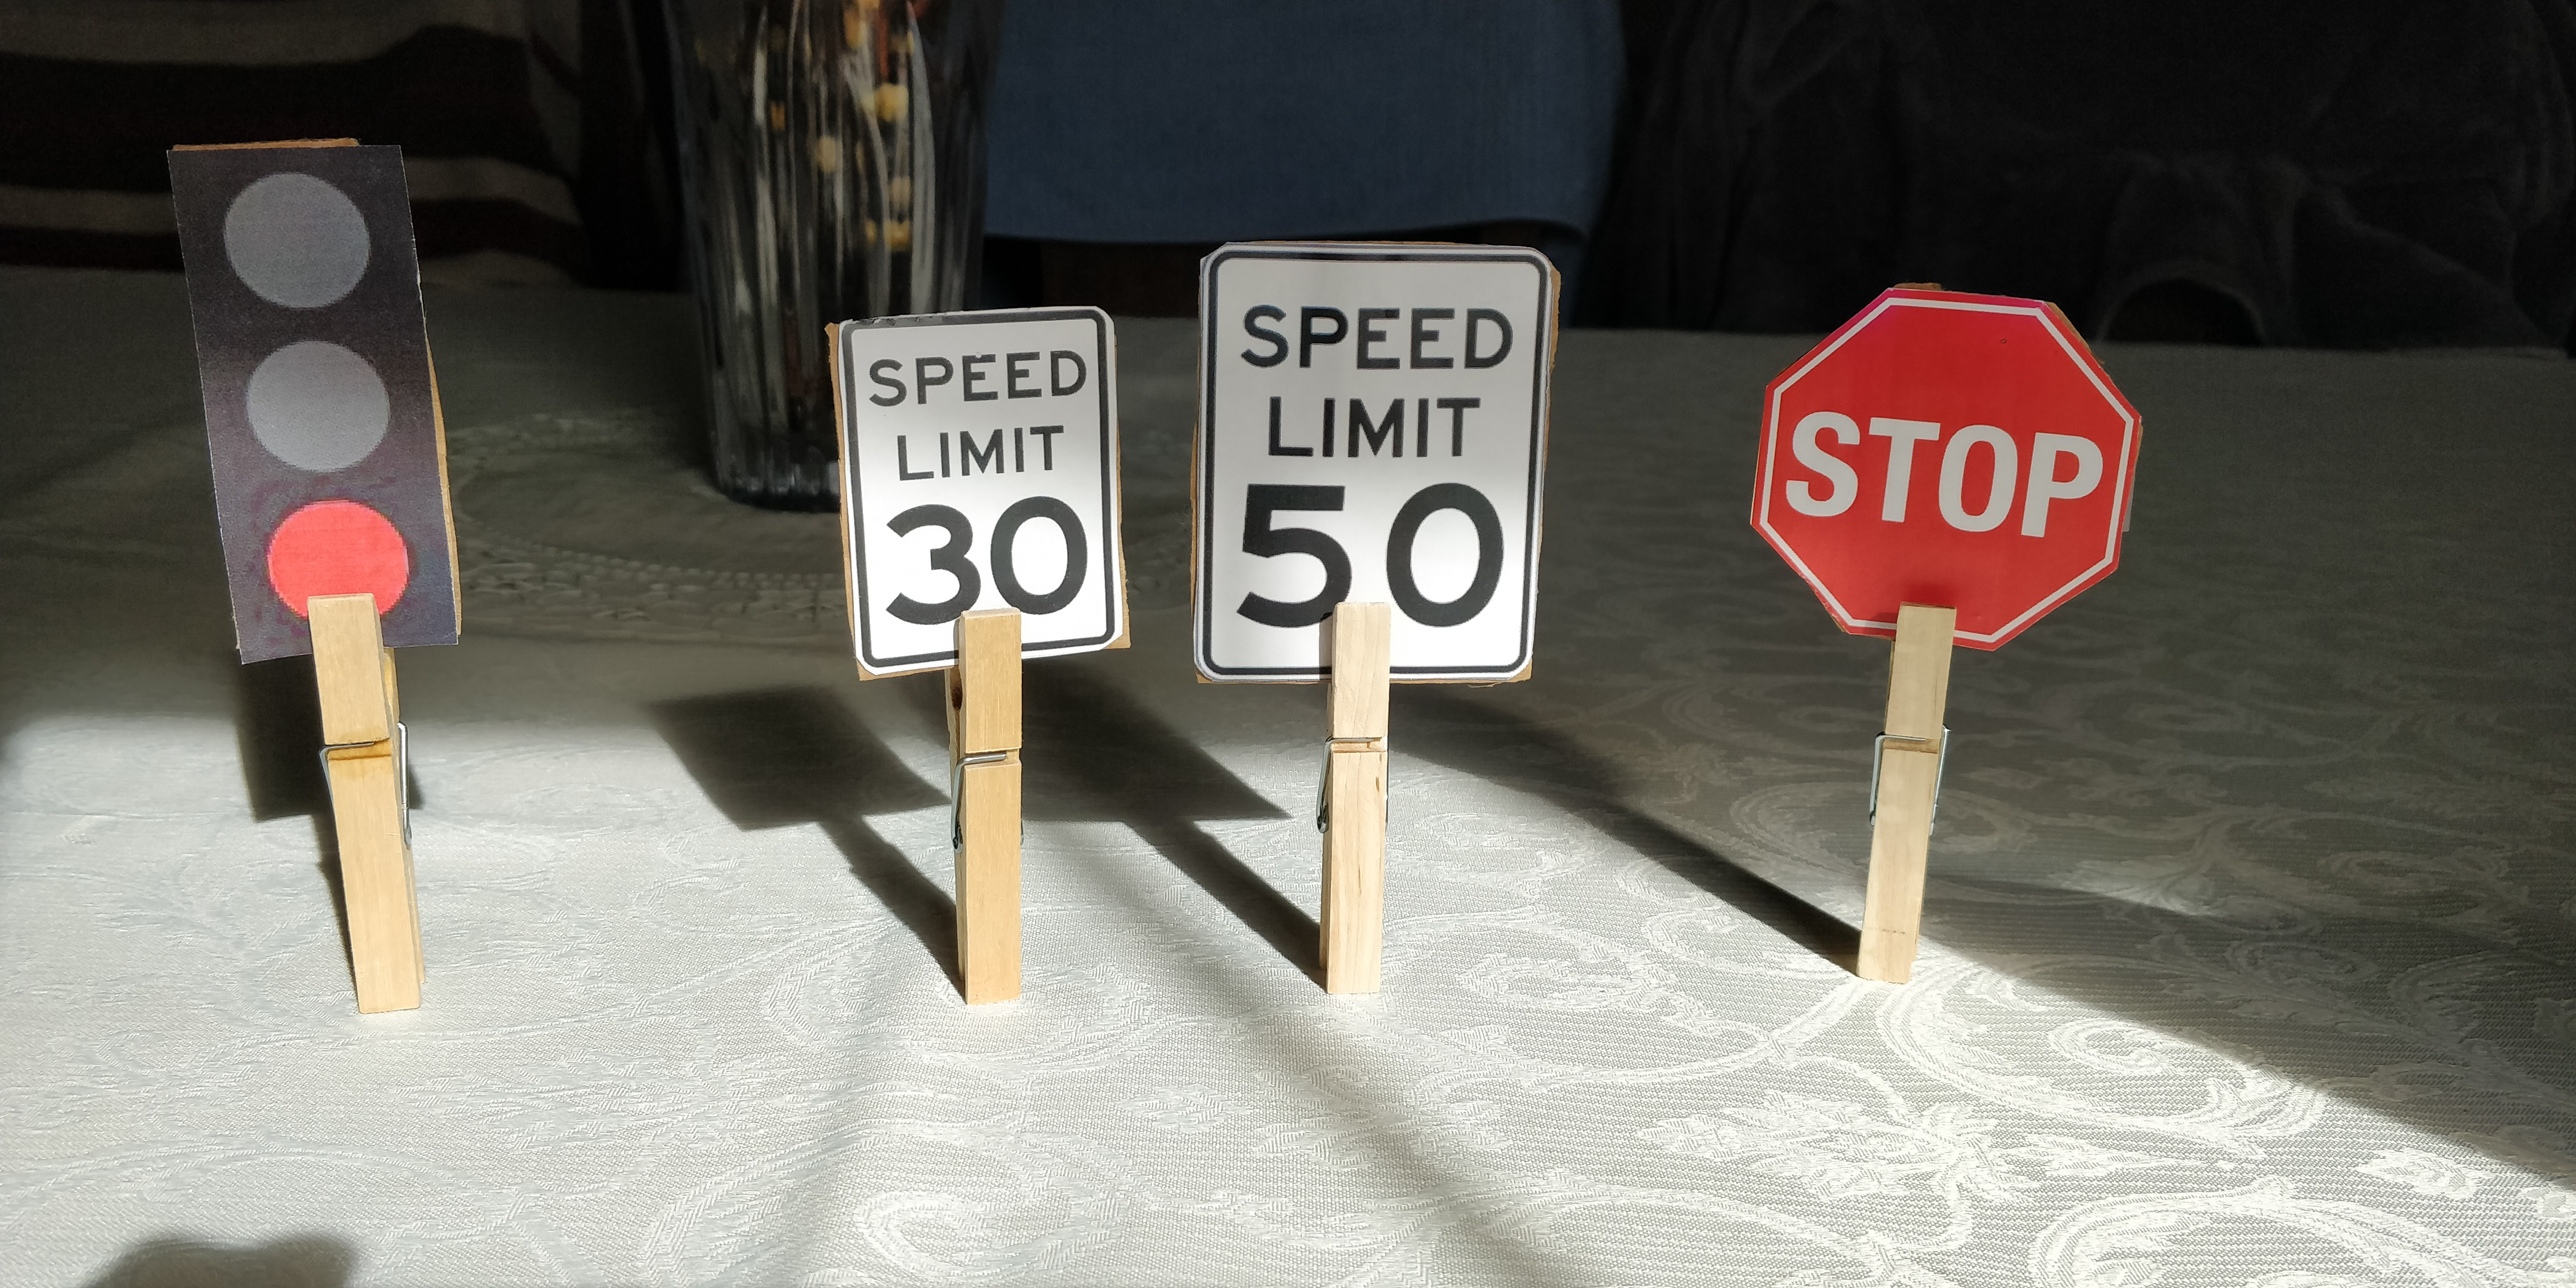Speed Limit 30: (823, 309, 1129, 674)
Speed Limit 50: (1193, 241, 1556, 678)
Stop Sign: (1751, 289, 2147, 649)
red light: (164, 143, 465, 664)
